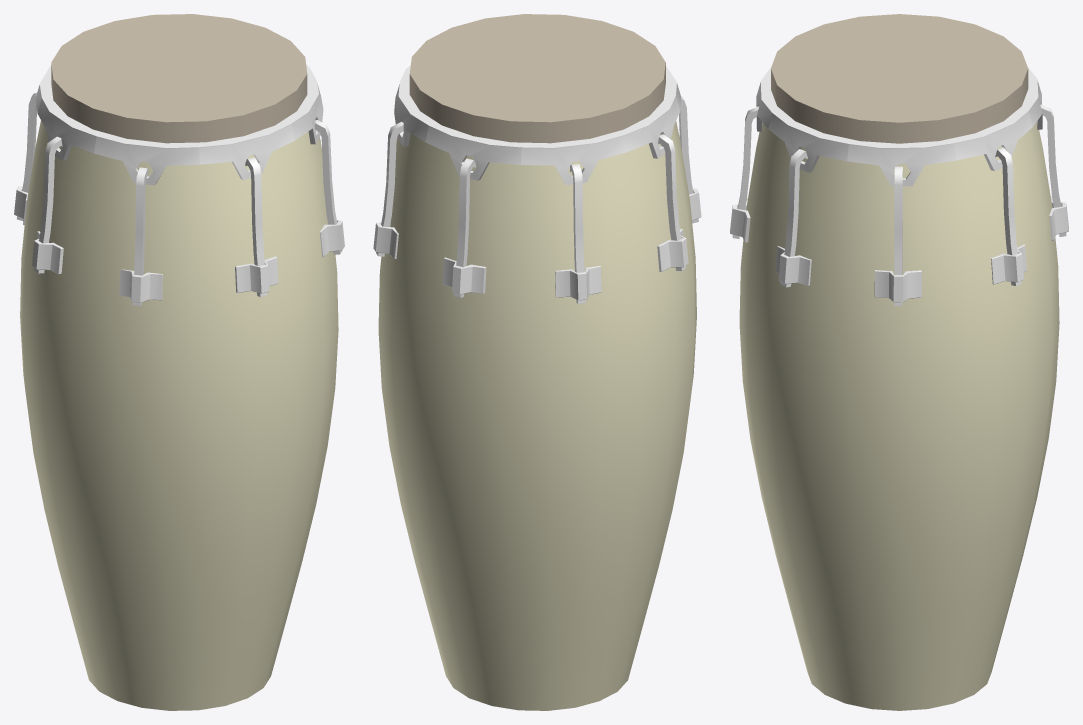
The model's file is Tambores fbx proyecto Tambor 2.fbx.
The picture shows the model from 3 angles, left to right: view 1: azimuth 30°, elevation 25°; view 2: azimuth 150°, elevation 25°; view 3: azimuth 270°, elevation 25°; orthographic projection.
Visible parts, largest first — view 1: simpleSetPercussion1:pCylinder10, simpleSetPercussion1:pCylinder73, simpleSetPercussion1:polySurface4, simpleSetPercussion1:pCube23, simpleSetPercussion1:pCube24, simpleSetPercussion1:pCube26, simpleSetPercussion1:pCube27, simpleSetPercussion1:pCube25, simpleSetPercussion1:pCube21, simpleSetPercussion1:pCube28, simpleSetPercussion1:pCube29, simpleSetPercussion1:pCube22; view 2: simpleSetPercussion1:pCylinder10, simpleSetPercussion1:pCylinder73, simpleSetPercussion1:polySurface4, simpleSetPercussion1:pCube30, simpleSetPercussion1:pCube15, simpleSetPercussion1:pCube16, simpleSetPercussion1:pCube27, simpleSetPercussion1:pCube29, simpleSetPercussion1:pCube17, simpleSetPercussion1:pCube28, simpleSetPercussion1:pCube25, simpleSetPercussion1:pCube18; view 3: simpleSetPercussion1:pCylinder10, simpleSetPercussion1:pCylinder73, simpleSetPercussion1:polySurface4, simpleSetPercussion1:pCube20, simpleSetPercussion1:pCube21, simpleSetPercussion1:pCube17, simpleSetPercussion1:pCube22, simpleSetPercussion1:pCube18, simpleSetPercussion1:pCube19, simpleSetPercussion1:pCube15, simpleSetPercussion1:pCube23, simpleSetPercussion1:pCube24 (+1 smaller).
Boxes of the visible parts, left/top/right/bottom form: simpleSetPercussion1:pCylinder10: left=20, top=120, right=338, bottom=710; simpleSetPercussion1:pCylinder73: left=51, top=14, right=307, bottom=143; simpleSetPercussion1:polySurface4: left=35, top=65, right=323, bottom=185; simpleSetPercussion1:pCube23: left=245, top=157, right=267, bottom=297; simpleSetPercussion1:pCube24: left=235, top=256, right=278, bottom=293; simpleSetPercussion1:pCube26: left=119, top=269, right=162, bottom=302; simpleSetPercussion1:pCube27: left=34, top=136, right=62, bottom=273; simpleSetPercussion1:pCube25: left=132, top=167, right=148, bottom=306; simpleSetPercussion1:pCube21: left=315, top=120, right=342, bottom=254; simpleSetPercussion1:pCube28: left=32, top=231, right=63, bottom=274; simpleSetPercussion1:pCube29: left=16, top=93, right=36, bottom=220; simpleSetPercussion1:pCube22: left=320, top=219, right=344, bottom=257; simpleSetPercussion1:pCylinder10: left=378, top=121, right=696, bottom=710; simpleSetPercussion1:pCylinder73: left=409, top=14, right=665, bottom=143; simpleSetPercussion1:polySurface4: left=394, top=65, right=681, bottom=184; simpleSetPercussion1:pCube30: left=555, top=266, right=601, bottom=300; simpleSetPercussion1:pCube15: left=453, top=158, right=475, bottom=297; simpleSetPercussion1:pCube16: left=442, top=257, right=486, bottom=294; simpleSetPercussion1:pCube27: left=658, top=134, right=685, bottom=270; simpleSetPercussion1:pCube29: left=570, top=164, right=585, bottom=303; simpleSetPercussion1:pCube17: left=376, top=121, right=403, bottom=256; simpleSetPercussion1:pCube28: left=657, top=228, right=688, bottom=271; simpleSetPercussion1:pCube25: left=679, top=96, right=698, bottom=223; simpleSetPercussion1:pCube18: left=373, top=222, right=398, bottom=259; simpleSetPercussion1:pCylinder10: left=739, top=122, right=1059, bottom=710; simpleSetPercussion1:pCylinder73: left=771, top=14, right=1028, bottom=143; simpleSetPercussion1:polySurface4: left=756, top=67, right=1042, bottom=186; simpleSetPercussion1:pCube20: left=874, top=270, right=922, bottom=302; simpleSetPercussion1:pCube21: left=780, top=149, right=807, bottom=287; simpleSetPercussion1:pCube17: left=995, top=147, right=1021, bottom=285; simpleSetPercussion1:pCube22: left=775, top=246, right=811, bottom=285; simpleSetPercussion1:pCube18: left=991, top=244, right=1026, bottom=284; simpleSetPercussion1:pCube19: left=894, top=166, right=902, bottom=306; simpleSetPercussion1:pCube15: left=1040, top=104, right=1066, bottom=236; simpleSetPercussion1:pCube23: left=732, top=106, right=758, bottom=238; simpleSetPercussion1:pCube24: left=730, top=198, right=750, bottom=242.
Size of the model in its own units: 4.06 by 7.97 by 4.06.
